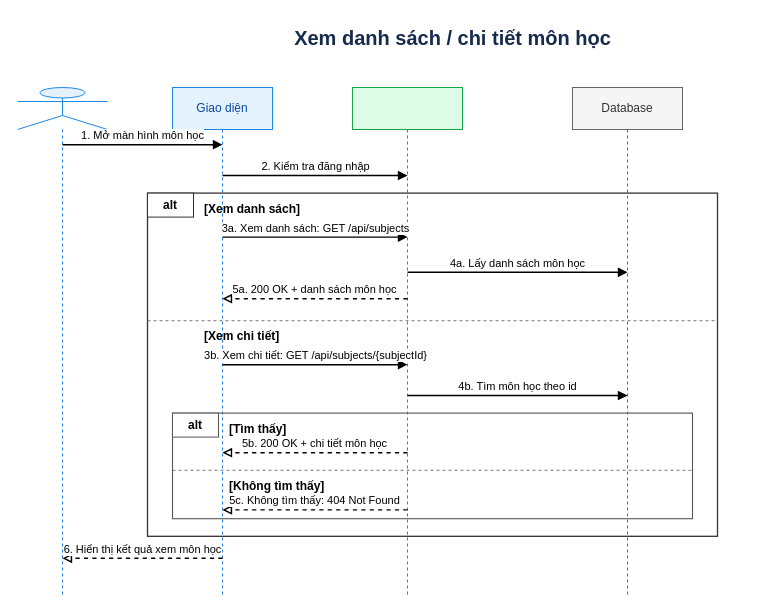
This 770x615 diagram has some shape labels left out. The shapes that lost their labels are listed below. From the top down, each one's box as (x1, y1, x2, y2) in pixels, then its label:
(16, 86, 108, 598): Người dùng
(352, 86, 462, 598): Hệ thống
